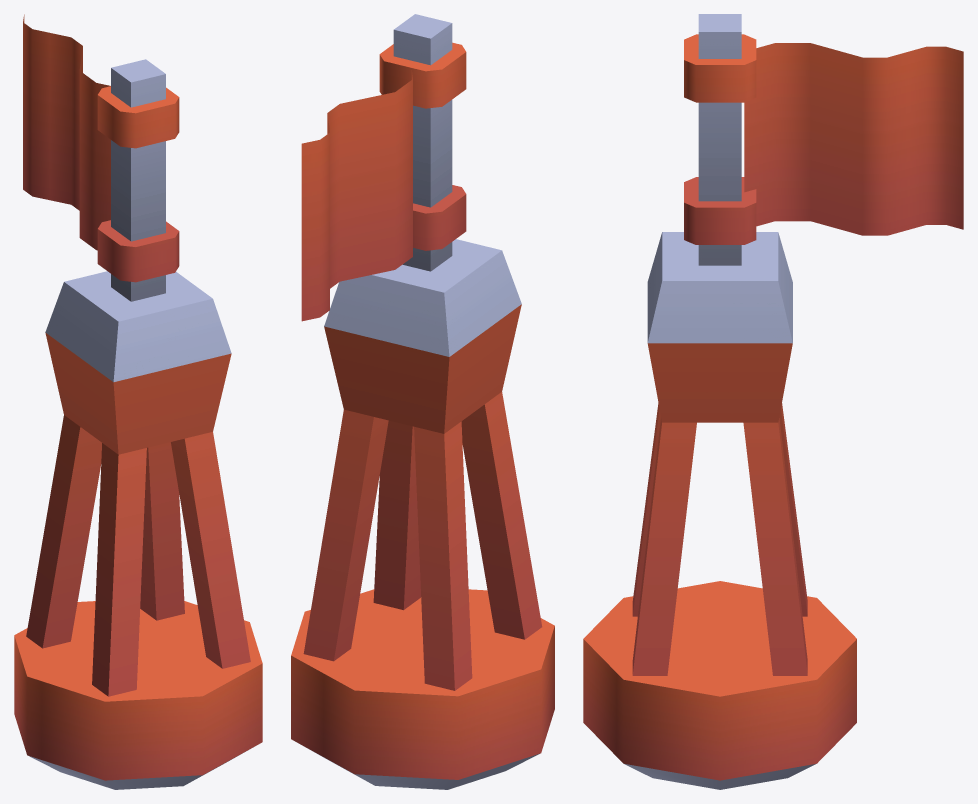
The model's file is buoy-flag-transformed-transformed.glb.
The picture shows the model from 3 angles, left to right: view 1: azimuth 30°, elevation 25°; view 2: azimuth 150°, elevation 25°; view 3: azimuth 270°, elevation 25°; orthographic projection. The views are drawn at different scales.
Parts seen in each view (by area): view 1: buoy-flag; view 2: buoy-flag; view 3: buoy-flag.
Part boxes in pixels (box(x1,y1,x2,y2)): buoy-flag: box(14, 14, 262, 789); buoy-flag: box(291, 14, 554, 789); buoy-flag: box(583, 14, 963, 789).
Size of the model in its own units: 0.9282 by 2.72 by 1.29.
1 material, 1 textured.
